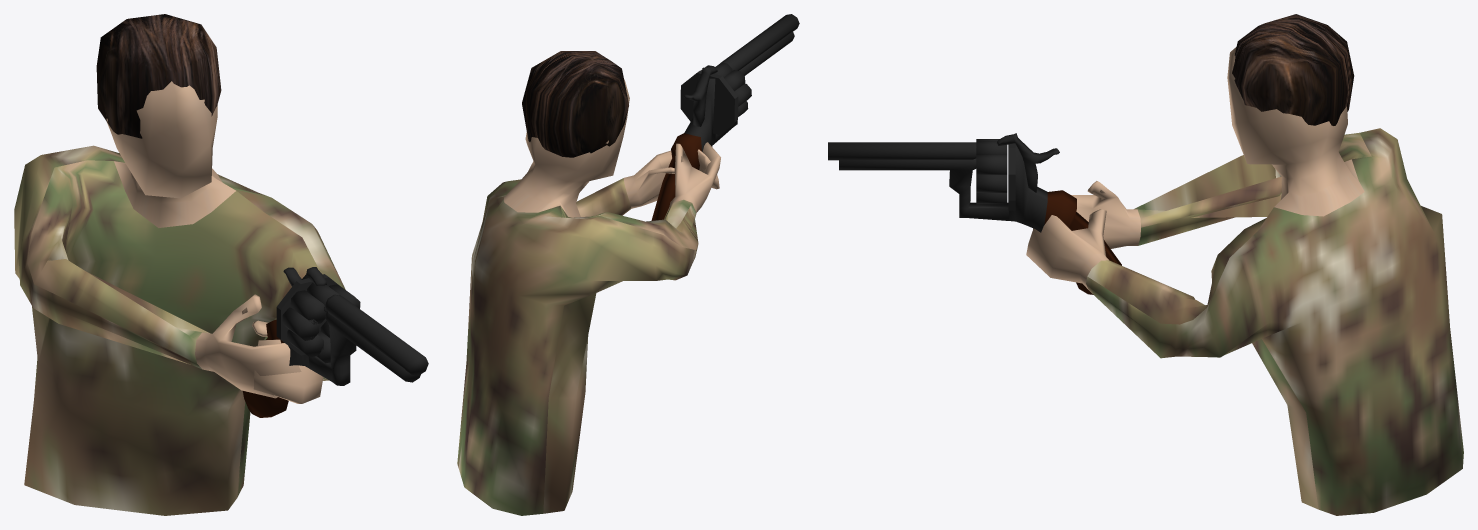
The model's file is PlayerHandgun.obj.
3 views of the same model, side by side, from view 1: azimuth 30°, elevation 25°; view 2: azimuth 150°, elevation 25°; view 3: azimuth 270°, elevation 25° (orthographic). The views are drawn at different scales.
Visible parts, largest first — view 1: Cylinder.008; view 2: Cylinder.008; view 3: Cylinder.008.
Boxes of the visible parts, x1,y1,x2,y2 form: Cylinder.008: [14, 14, 428, 515]; Cylinder.008: [457, 14, 799, 515]; Cylinder.008: [828, 14, 1463, 515].
Bounding box in the file's own units: 0.1402 × 0.2394 × 0.3069.
Materials: 4 (4 with a texture image).
